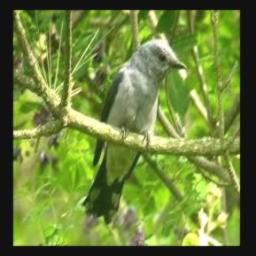Cuckoo: (82, 40, 187, 224)
